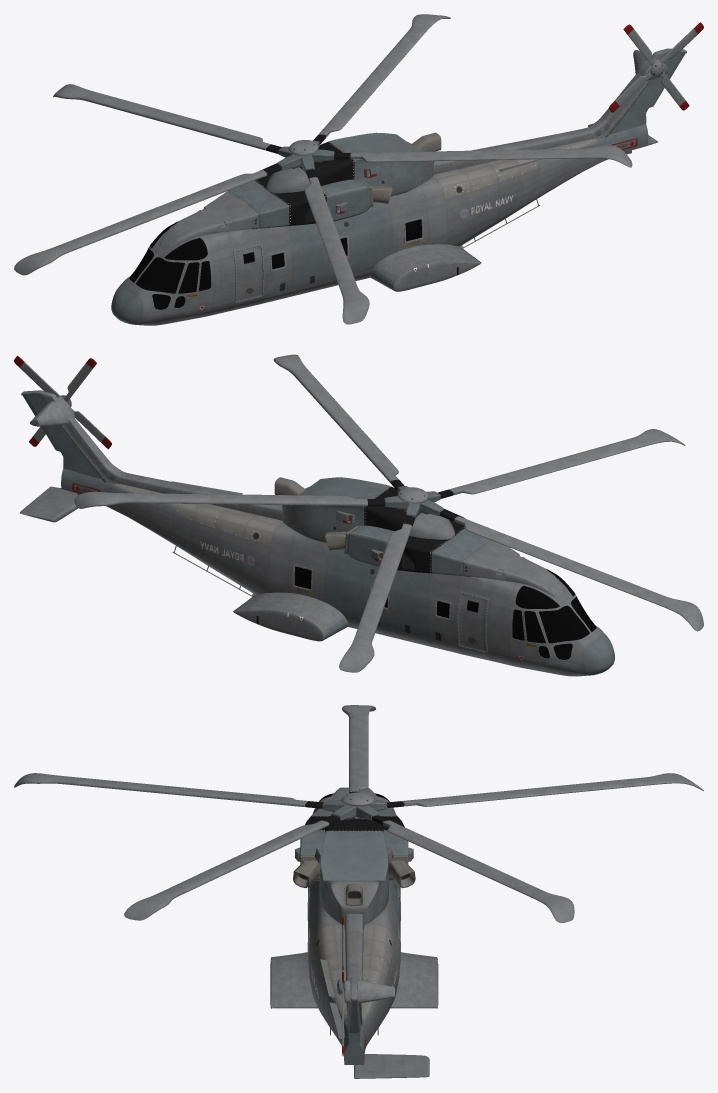
Rendered from merlin-mk2-helicopter.glb.
3 renders of one model, top to bottom at view 1: azimuth 30°, elevation 25°; view 2: azimuth 150°, elevation 25°; view 3: azimuth 270°, elevation 25°, orthographic. The views are drawn at different scales.
Visible parts, largest first — view 1: Low-Body, Low-Prop, Low-BodyTop, Low-Windwos, Low-Sides, Low-BackPropHolder, Low-Door; view 2: Low-Body, Low-BodyTop, Low-Prop, Low-Windwos, Low-Sides, Low-BackPropHolder, Low-Door, Low-BackWing; view 3: Low-Prop, Low-BodyTop, Low-Body, Low-Sides, Low-BackWing, Low-BackPropHolder.
Part boxes in pixels (x1,y1,x2,y2): Low-Body: (111, 52, 685, 325); Low-Prop: (14, 14, 632, 324); Low-BodyTop: (159, 48, 686, 250); Low-Windwos: (129, 217, 424, 309); Low-Sides: (368, 199, 540, 291); Low-BackPropHolder: (609, 22, 703, 112); Low-Door: (233, 243, 264, 303); Low-Body: (22, 394, 614, 676); Low-BodyTop: (21, 390, 565, 598); Low-Prop: (74, 354, 703, 672); Low-Windwos: (292, 564, 596, 659); Low-Sides: (172, 546, 349, 641); Low-BackPropHolder: (14, 356, 111, 449); Low-Door: (457, 591, 489, 653); Low-BackWing: (19, 481, 242, 522); Low-Prop: (14, 705, 703, 922); Low-BodyTop: (293, 787, 415, 1025); Low-Body: (308, 792, 400, 1064); Low-Sides: (270, 952, 438, 1035); Low-BackWing: (320, 959, 429, 1078); Low-BackPropHolder: (337, 916, 395, 1056).
Bounding box in the file's own units: 2189 × 570 × 1744.
Materials: 8 (8 with a texture image).
